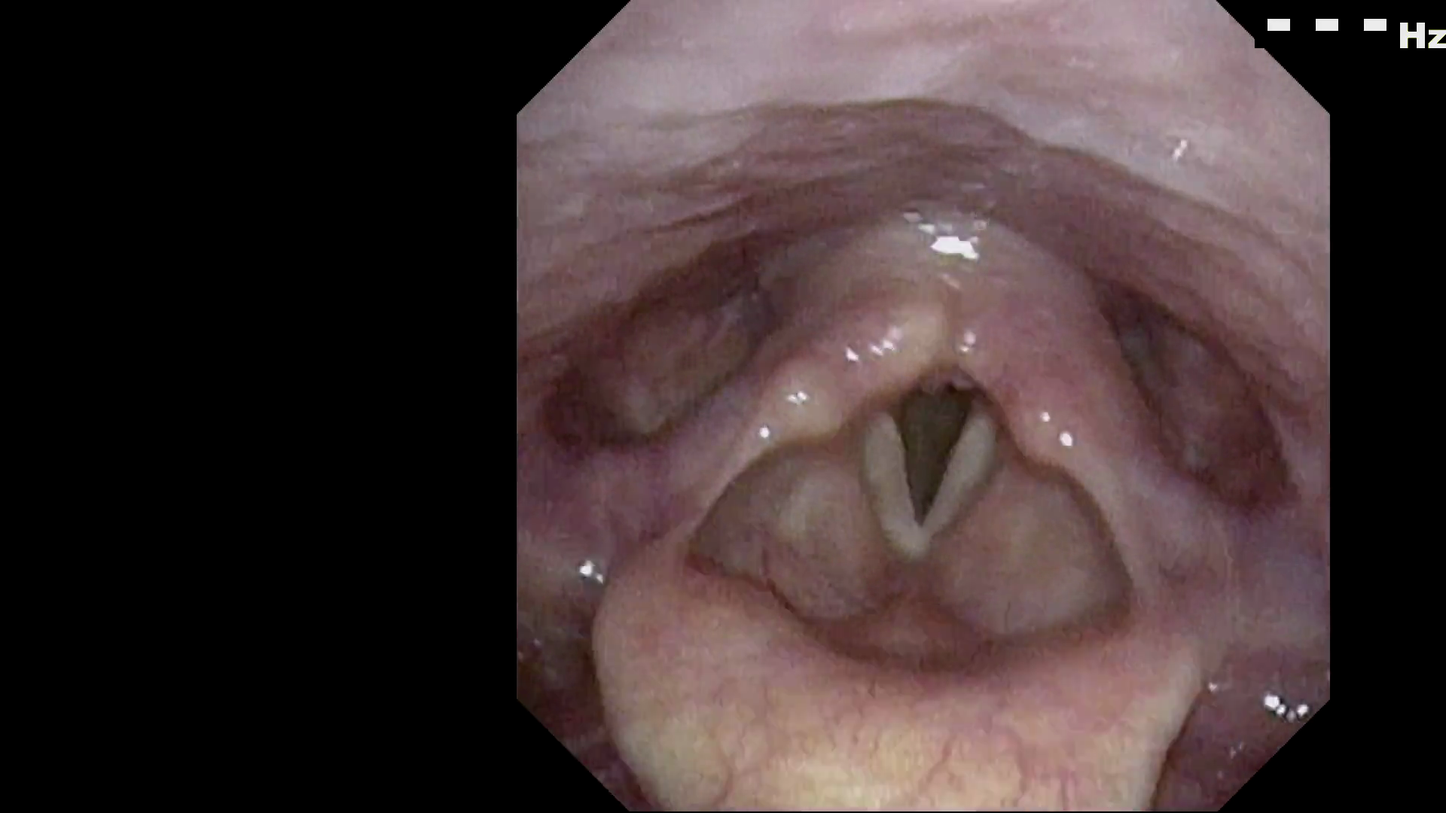epiglottis: (601, 544, 1224, 760)
trachea: (853, 349, 1028, 558)
